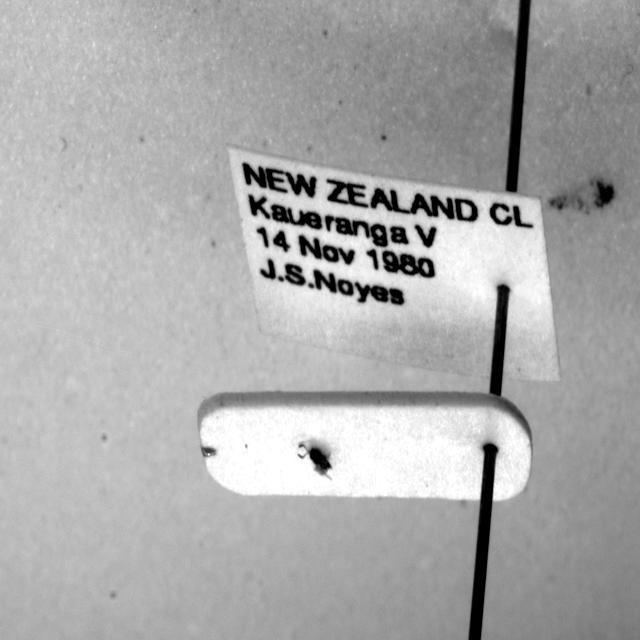typed_label: (229, 146, 560, 381)
